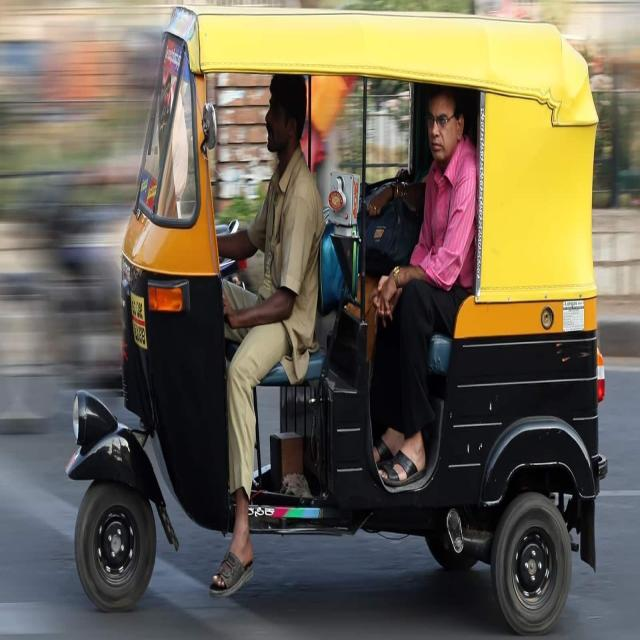autorickshaw: (66, 9, 608, 630)
